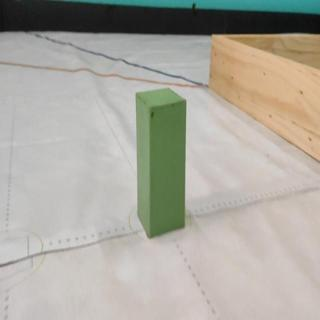greenbox: (134, 86, 188, 241)
